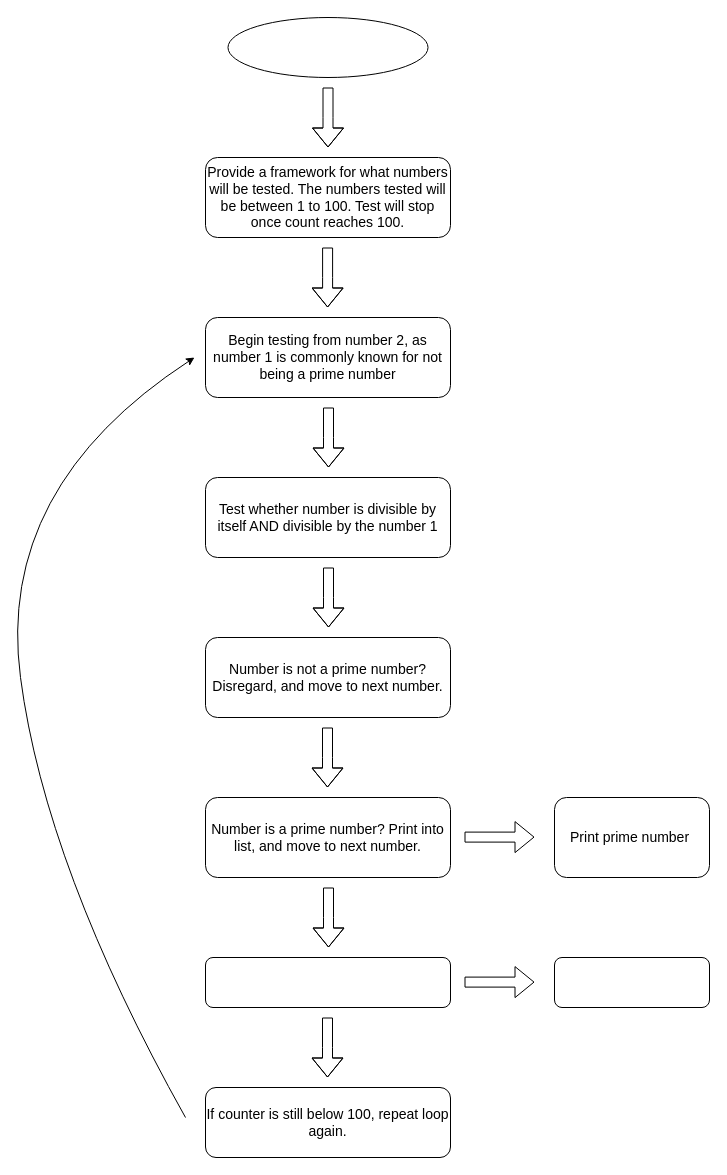
The diagram is 727 pixels wide and 1175 high, and some of its shapes have lost their labels. The box of each missing label's shape, as (x1, y1, x2, y2) in pixels:
Finish loop: (554, 956, 710, 1008)
Has counter reached 100? If yes, end loop. If no, keep moving below: (204, 956, 450, 1008)
Start: (227, 16, 428, 78)
